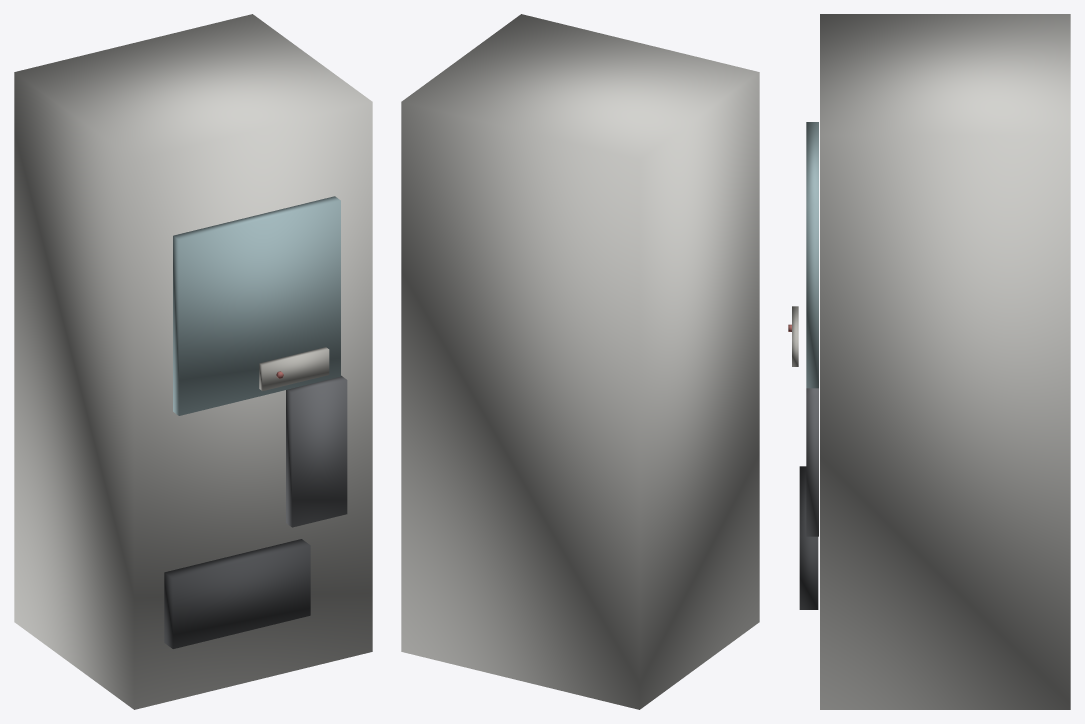
File: motel_ice_machine.glb
3 views of the same model, side by side, from view 1: azimuth 30°, elevation 25°; view 2: azimuth 150°, elevation 25°; view 3: azimuth 270°, elevation 25° (orthographic). The views are drawn at different scales.
Visible parts, largest first — view 1: world; view 2: world; view 3: world.
Boxes of the visible parts, box(x1,y1,x2,y2) form: world: box(14, 14, 372, 709); world: box(401, 14, 759, 709); world: box(788, 14, 1070, 709).
Size of the model in its own units: 0.78 by 1.72 by 0.766.
